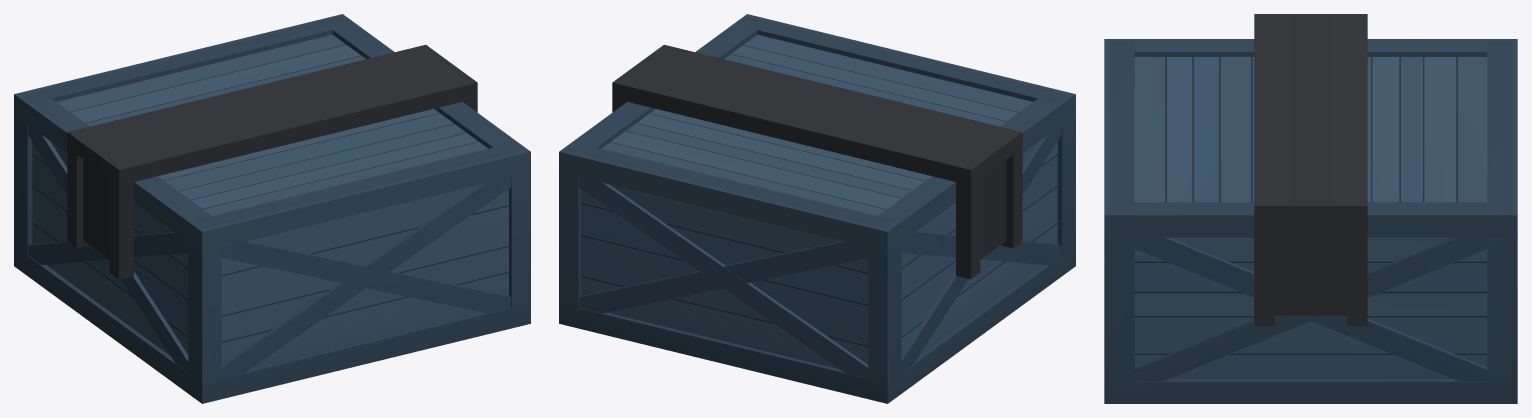
The model's file is crate.factory.export_blue.glb.
3 renders of one model, left to right at view 1: azimuth 30°, elevation 25°; view 2: azimuth 150°, elevation 25°; view 3: azimuth 270°, elevation 25°, orthographic. The views are drawn at different scales.
Parts seen in each view (by area): view 1: crate_factory_export_blue; view 2: crate_factory_export_blue; view 3: crate_factory_export_blue.
Part boxes in pixels (x1,y1,x2,y2): crate_factory_export_blue: [14, 14, 530, 403]; crate_factory_export_blue: [559, 14, 1075, 403]; crate_factory_export_blue: [1104, 14, 1517, 403].
Size of what is drawn, in the model's own units: 2.4 by 1.2 by 2.18.
